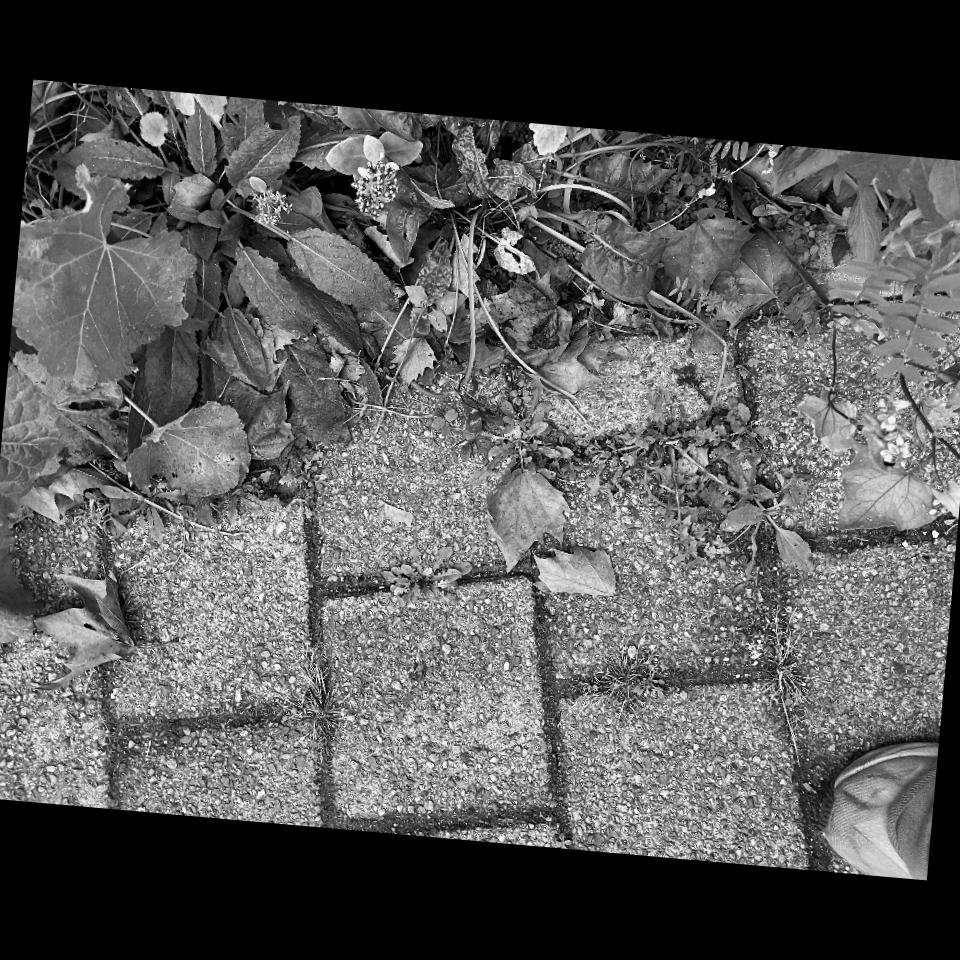weed: (280, 767, 422, 901), (362, 602, 437, 679), (220, 489, 284, 576)
